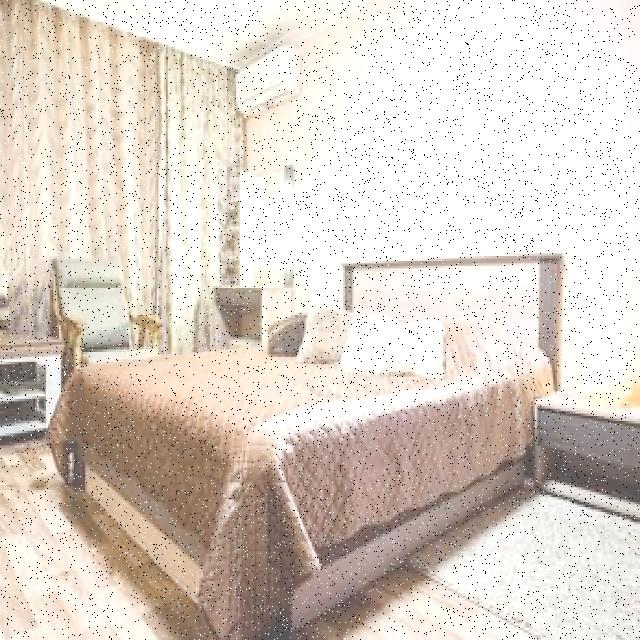bed: (73, 307, 560, 597)
